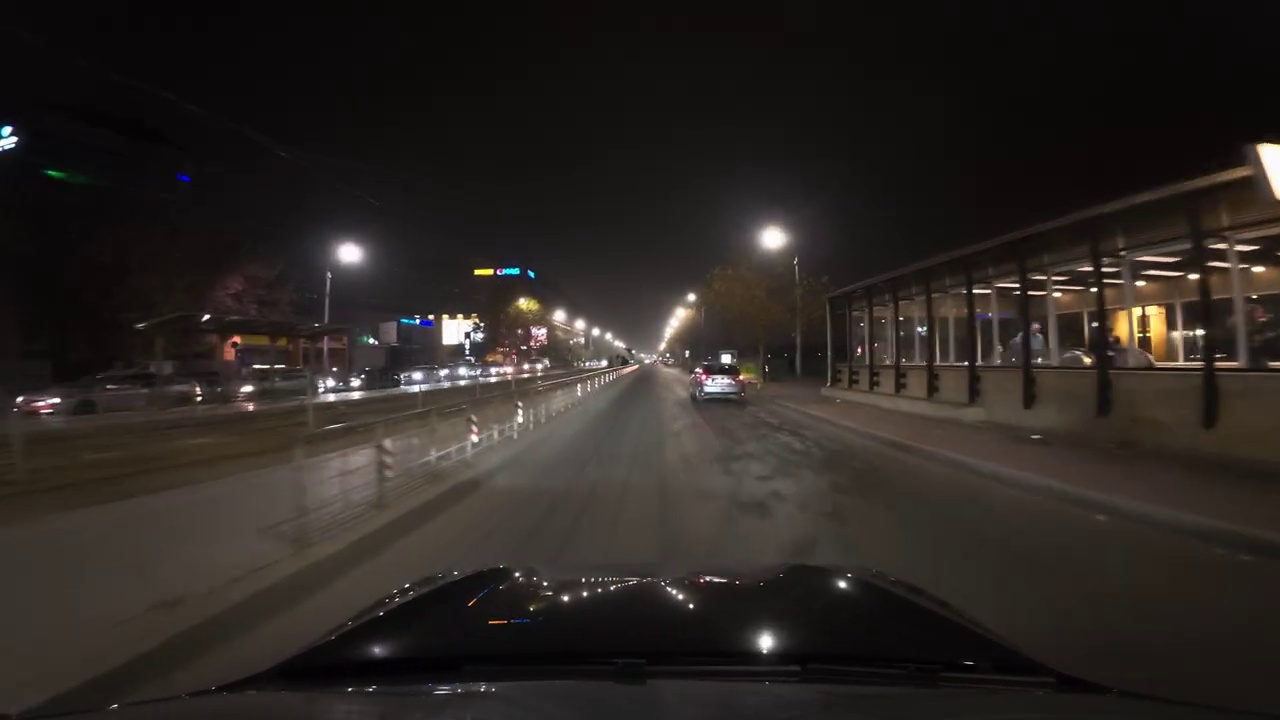acesa: (665, 299, 696, 338), (1260, 143, 1279, 198), (756, 223, 789, 253), (334, 239, 365, 267)
